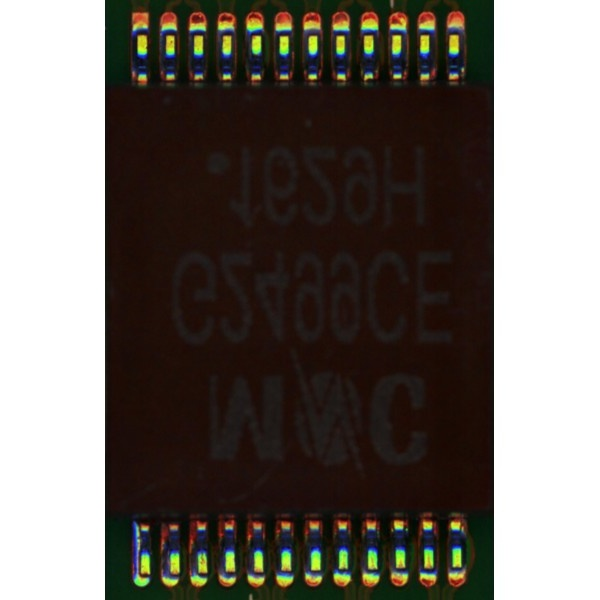Bad_qiaojiao: (134, 522, 140, 571)
